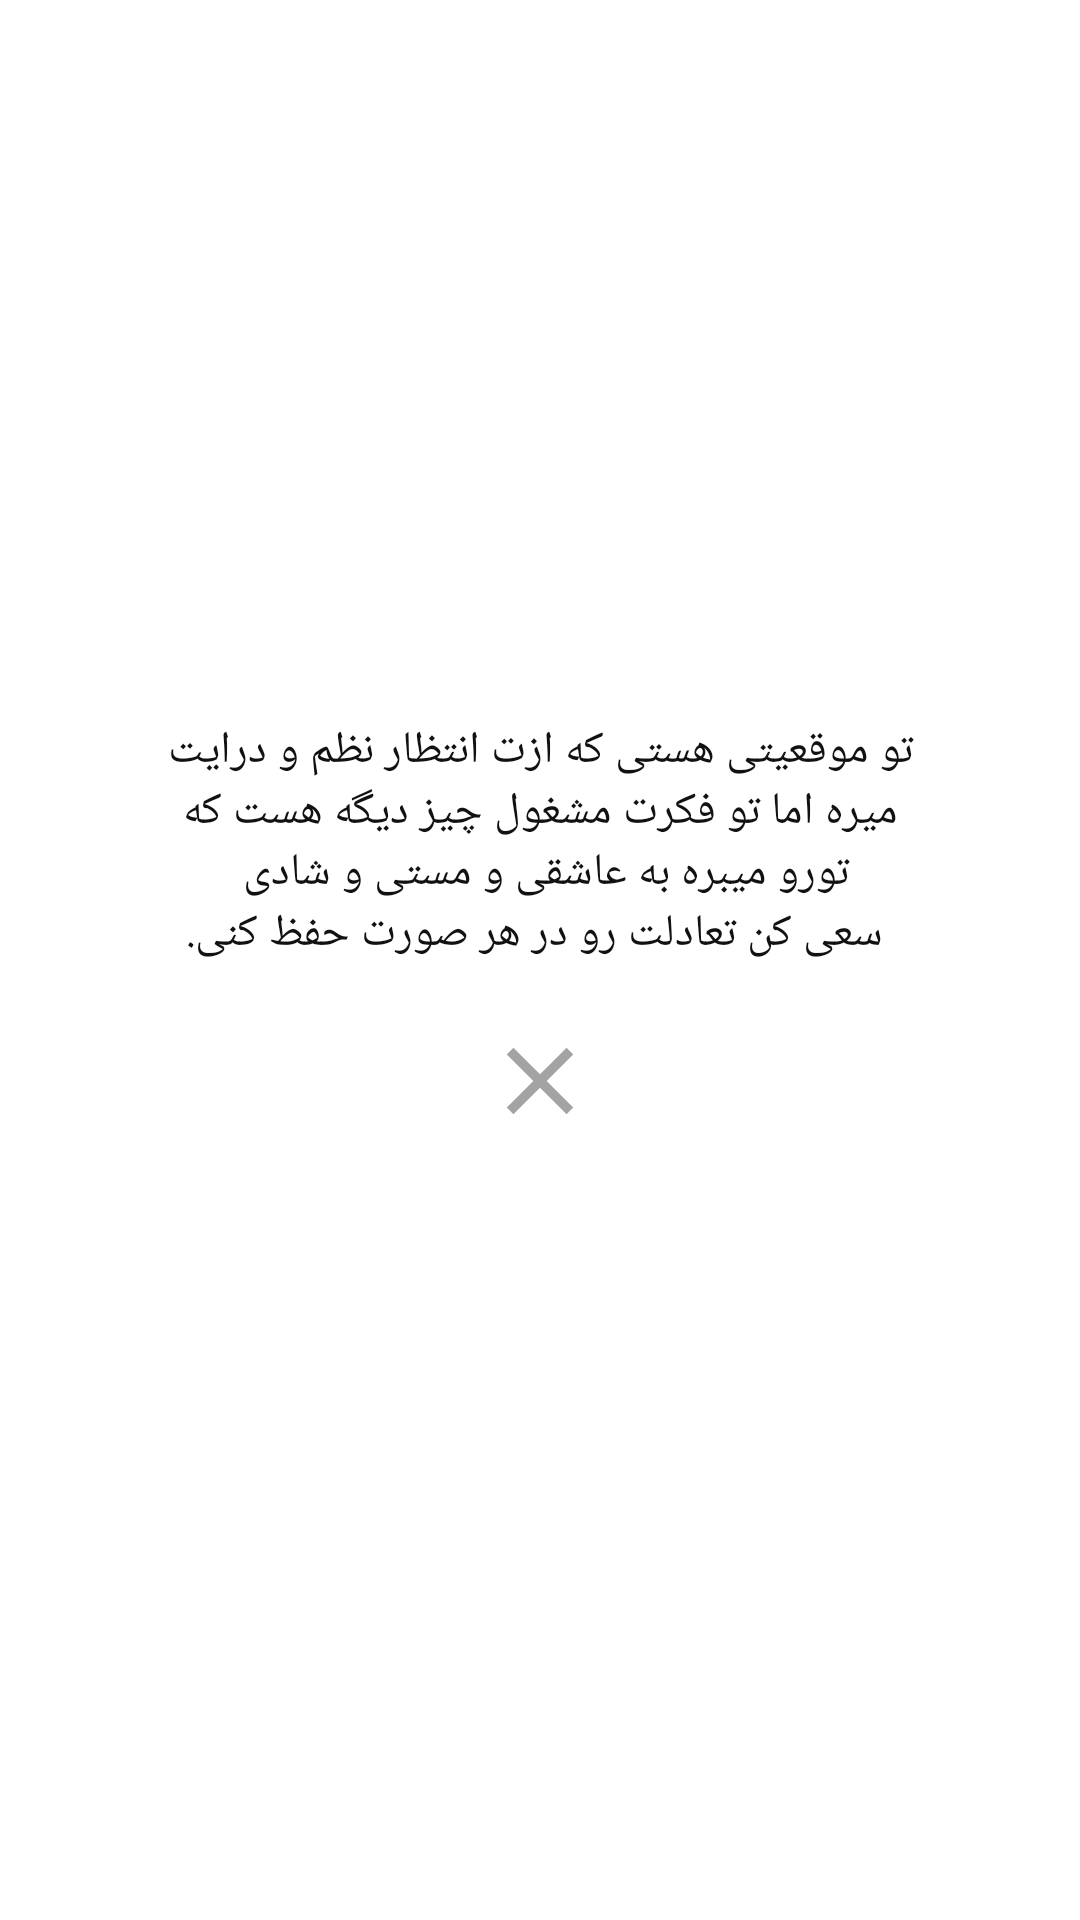

Screen size 1080px x 1920px. Icon name, then its box in pixels as (x1, y1, x2, y2):
close style: (507, 1048, 573, 1114)
